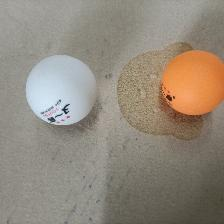WhiteBall: (25, 54, 97, 125)
YellowBall: (160, 50, 224, 116)
